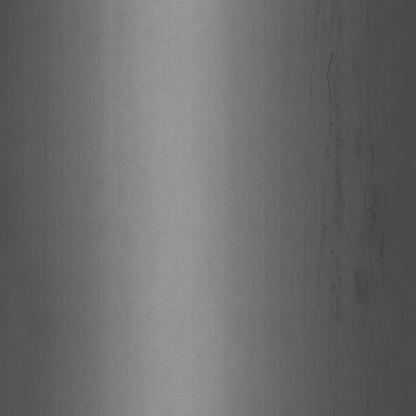inclusion: (354, 42, 386, 326)
water_spot: (308, 10, 348, 318)
